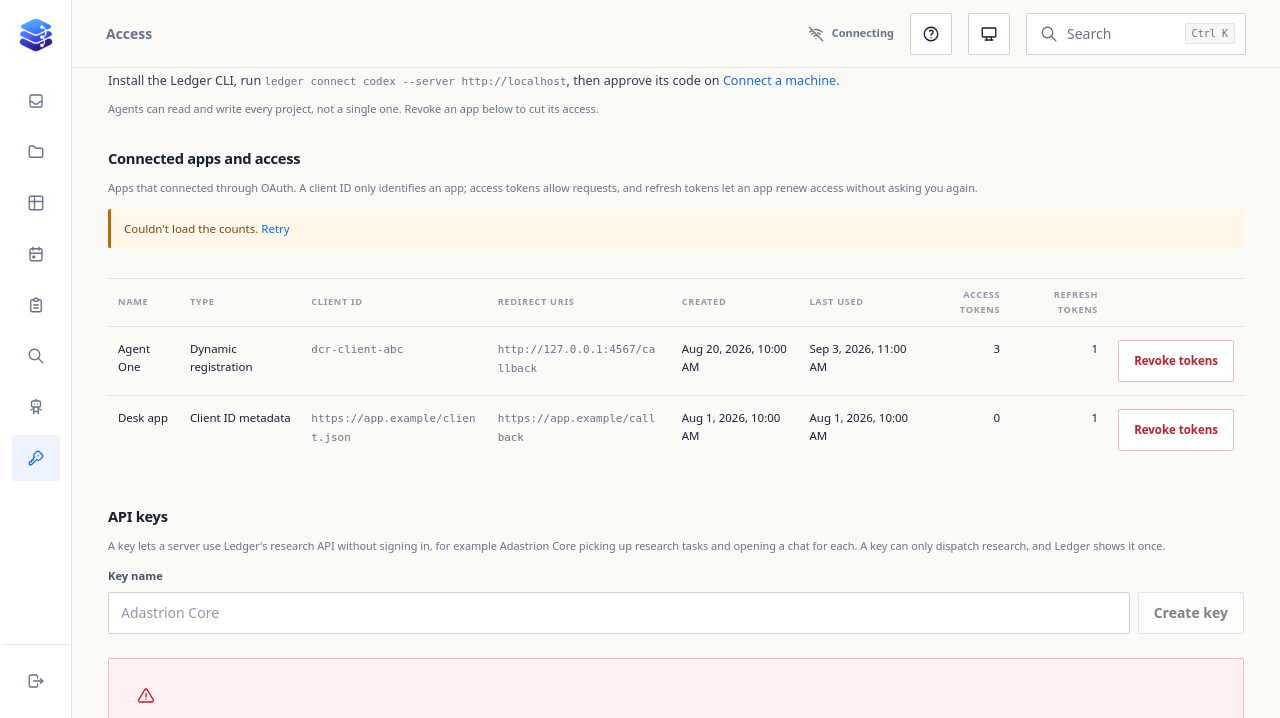
it: access › requires explicit confirmation before revoking and reports the result
(page scrolled)
Expected: the table named "oauth clients" is shown, [108,278,1244,464]
Click the button "Revoke tokens" in the row of "Agent One" at coordinates (1176, 361), box [1118,340,1234,382]
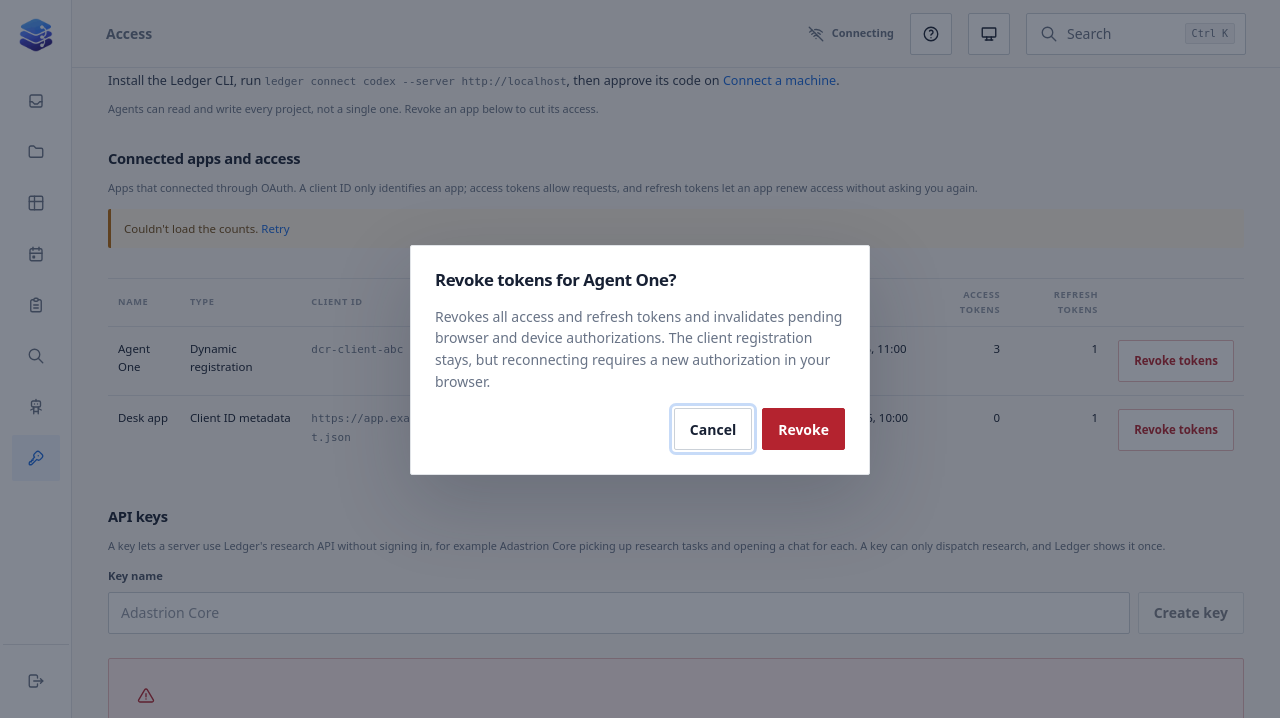
Expected: the dialog shows "Revoke tokens for Agent One", [435,268,676,290]
Click the button "Cancel" at coordinates (713, 430), box [674,408,752,450]
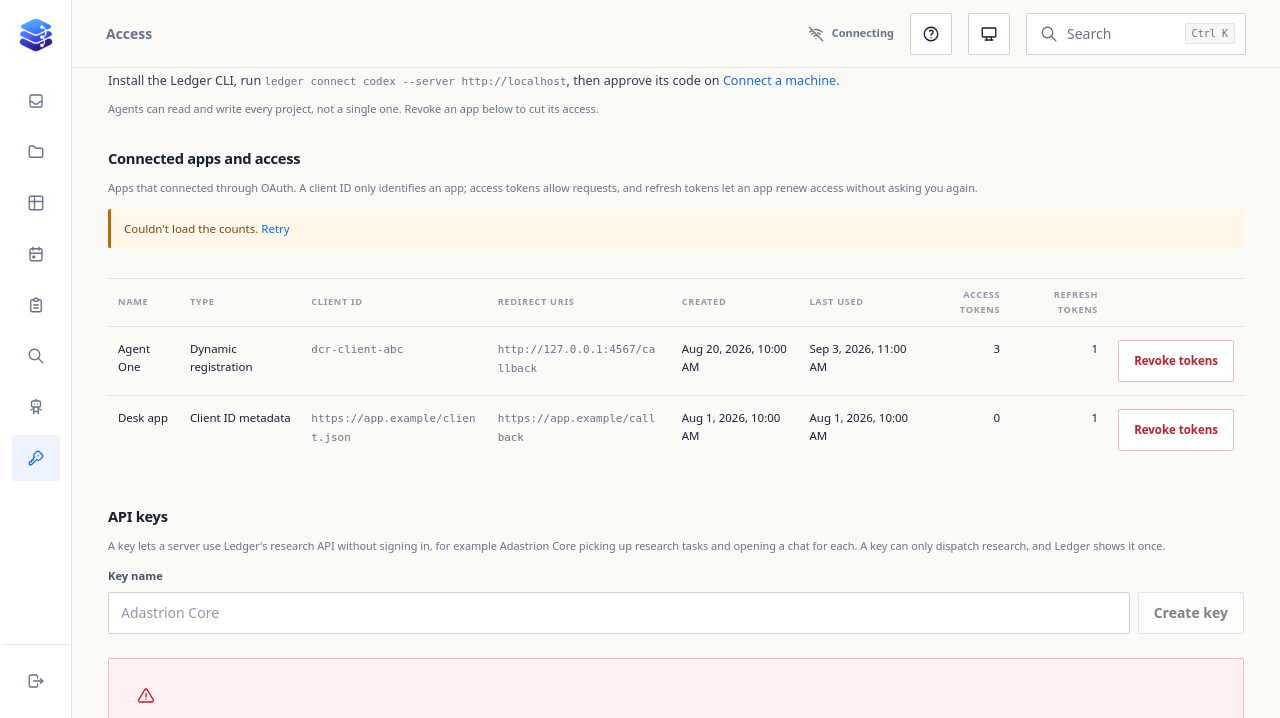
Expected: the dialog is gone
Click the button "Revoke tokens" in the row of "Agent One" at coordinates (1176, 361), box [1118,340,1234,382]
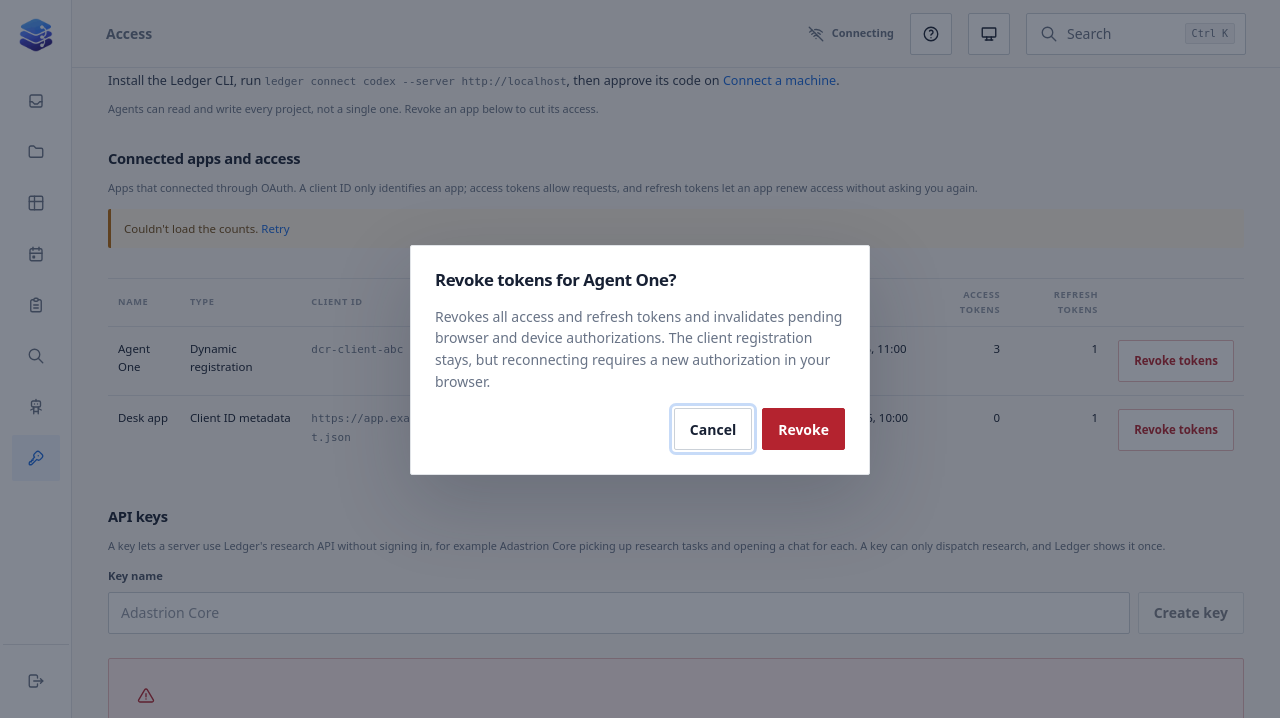
Click the button "Revoke" at coordinates (804, 430), box [762,408,845,450]
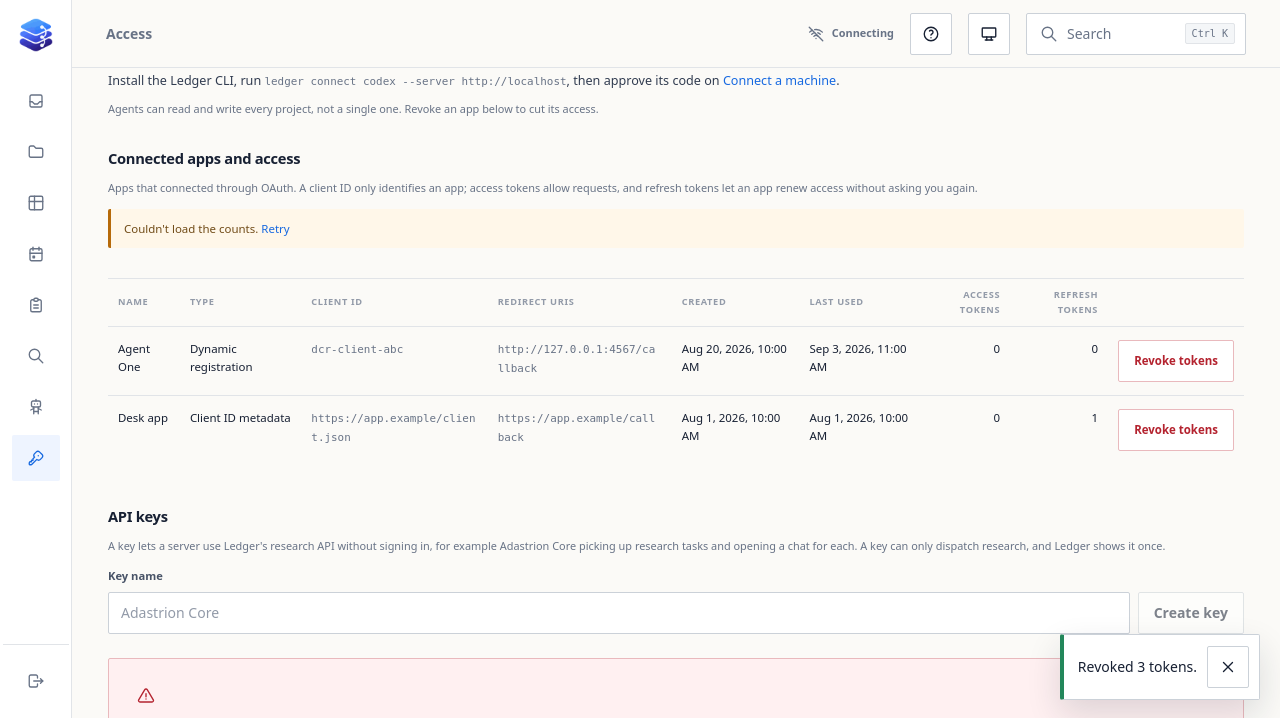
Expected: the message "Revoked 3 tokens." is shown, [1060,634,1260,700]
